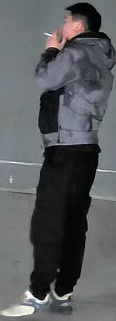smoking: (30, 6, 109, 95)
